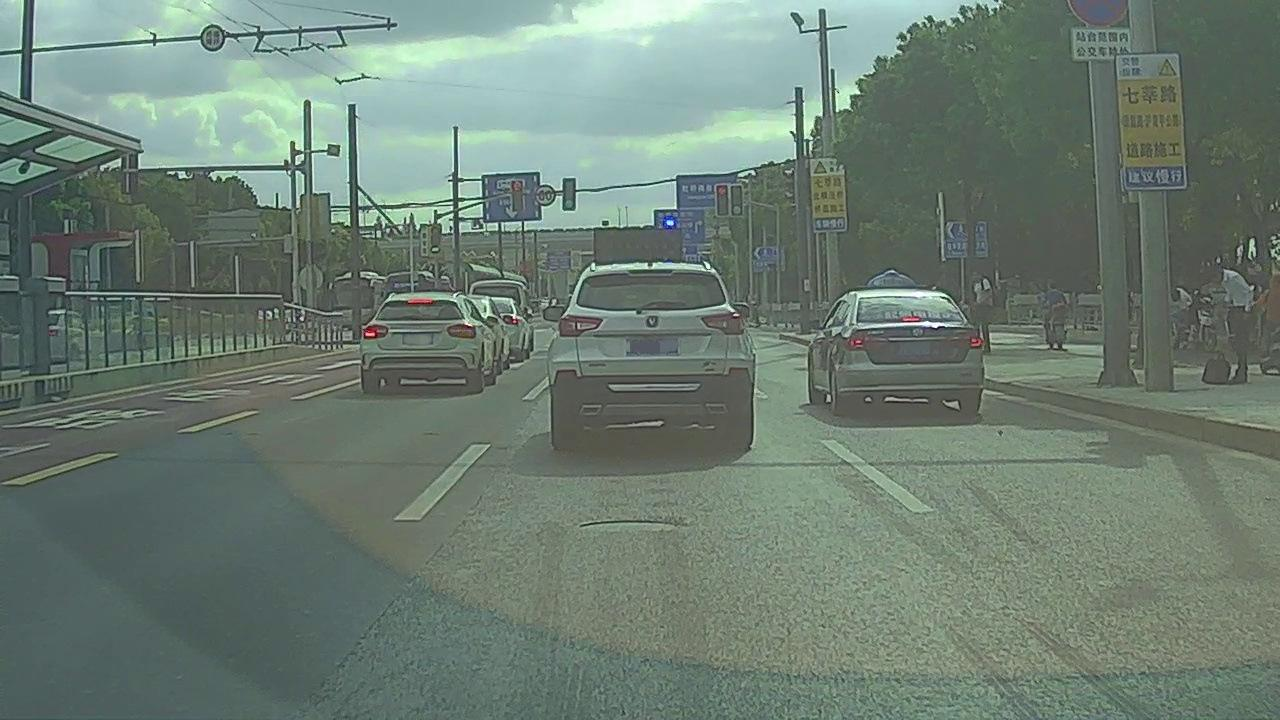traffic_light: (561, 177, 576, 212), (512, 180, 524, 211), (731, 185, 743, 215), (716, 186, 728, 214)
